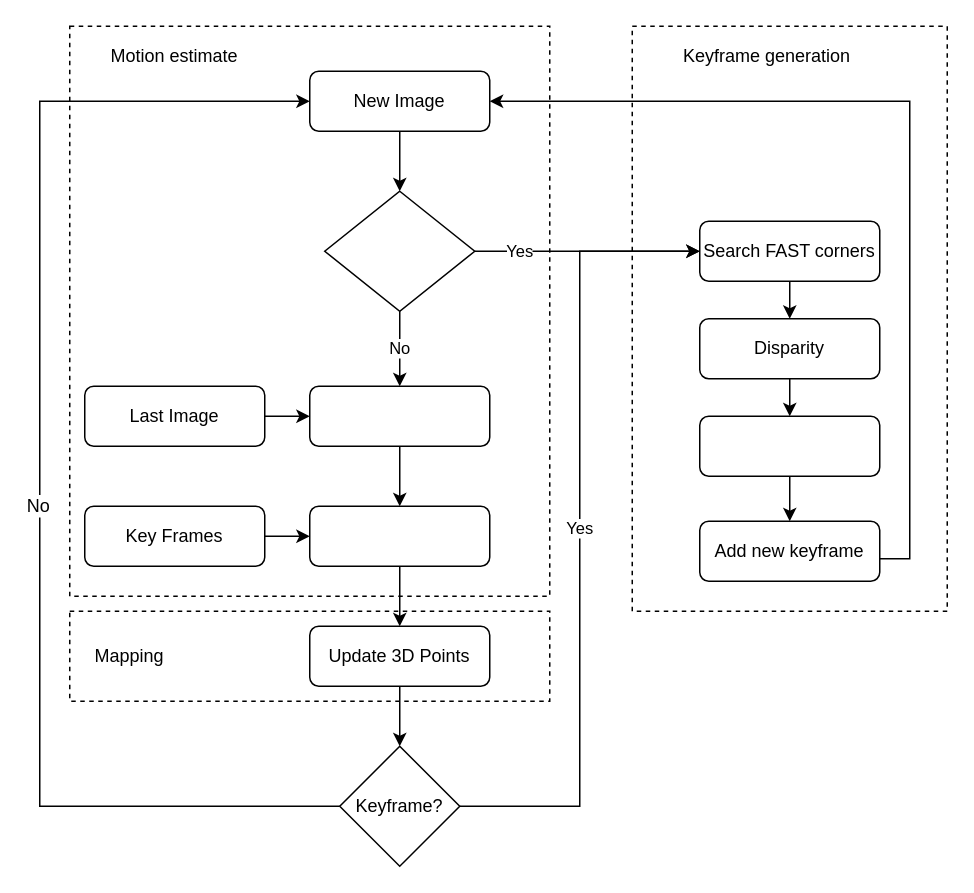
This 974x893 diagram has some shape labels left out. Here are the shapes that lost their labels. From the top down, the box of each, then its label:
(323, 190, 475, 311): First Frame?
(308, 385, 490, 446): Sparse Image Alginment
(698, 415, 880, 476): 3D Points
(308, 505, 490, 566): Pose Refinement
